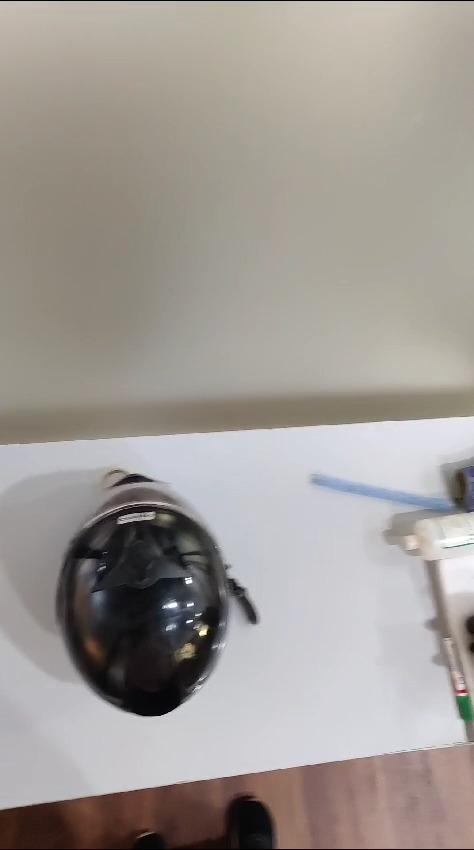Helmet: (56, 470, 257, 716)
